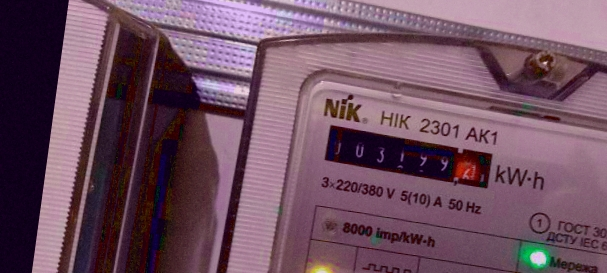0: (328, 134, 343, 157), (351, 137, 366, 159)
1: (395, 143, 407, 163)
3: (373, 143, 386, 164)
6: (460, 164, 472, 181)
9: (415, 147, 429, 168), (436, 152, 450, 172)
screen: (315, 119, 502, 197)
